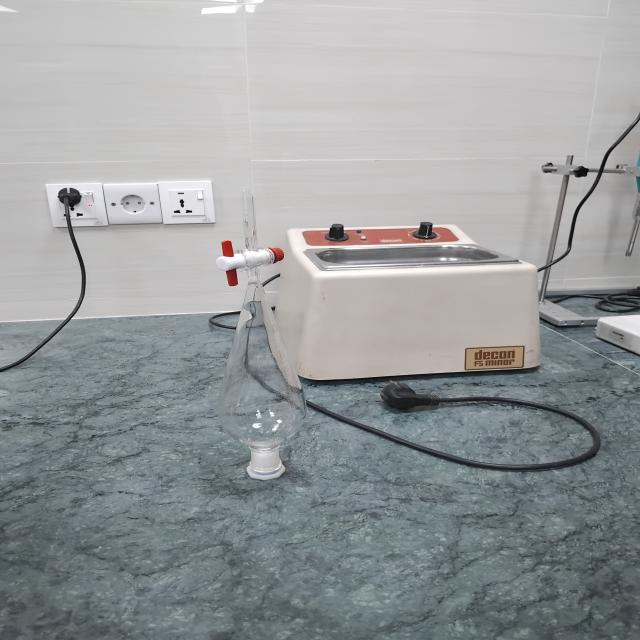Separating_Funnel: (177, 163, 337, 515)
